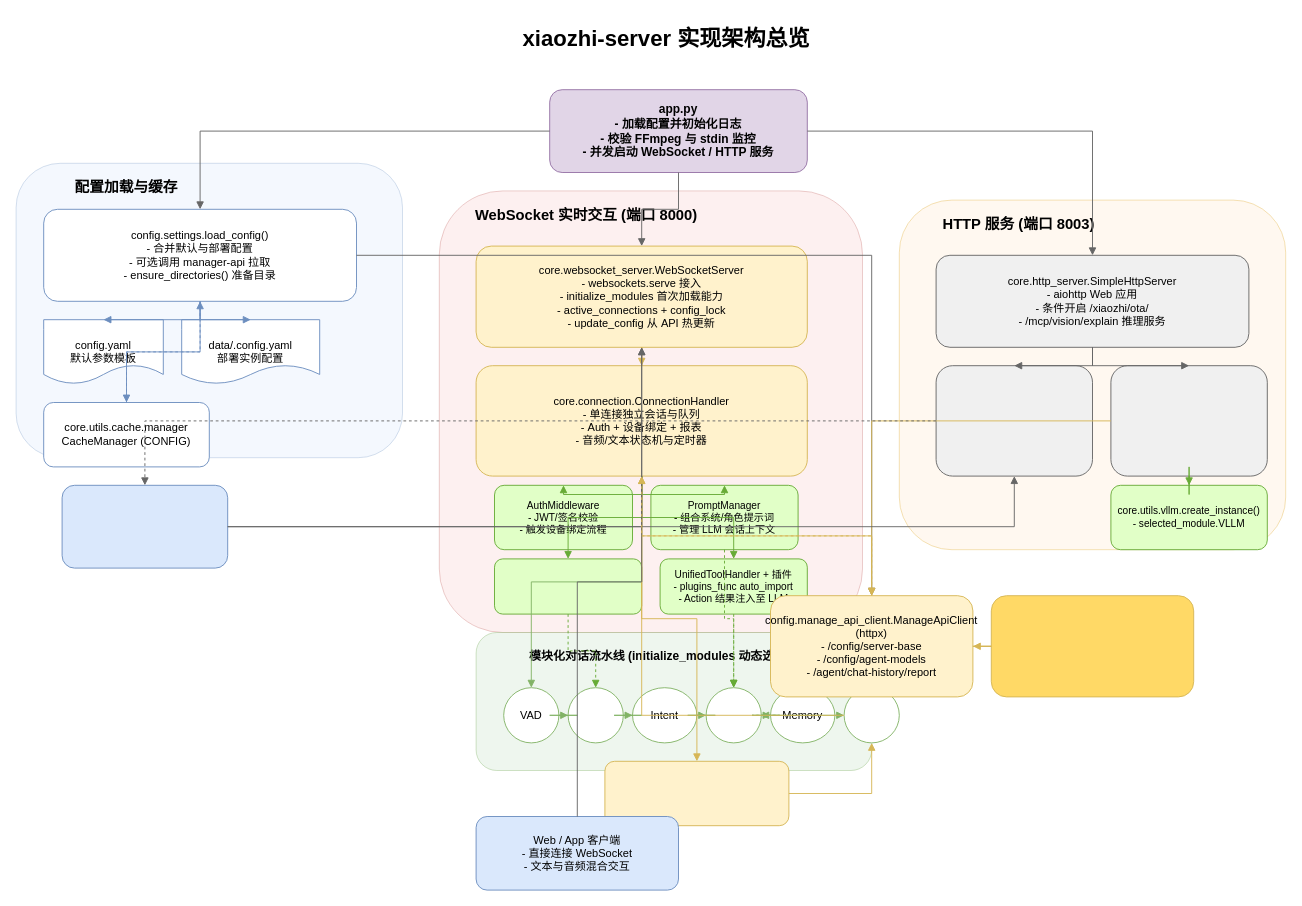
This 1302x906 diagram has some shape labels left out. Here are the shapes that lost their labels. From the top down, the centre of each, then its label:
the point at 1013,420: OTAHandler - 设备固件/资源下发 - MQTT 凭证签发 - 协调 WebSocket 与 MQTT
the point at 1188,420: VisionHandler - Bearer Token 校验 - 图片验签与 Base64 转码 - VLLM 视觉解释调用
the point at 144,526: ESP32 设备 - OTA 配置地址 - WebSocket 音频通道
the point at 568,586: VoiceprintProvider - 可选声纹识别 - 按需初始化 ASR/声纹
the point at 1092,646: Manager API 控台 - 配置与模型管理 - Agent 模板与调试 - 设备状态回溯
the point at 595,715: ASR
the point at 733,715: LLM
the point at 871,715: TTS
the point at 696,793: ThreadPoolExecutor - 处理阻塞 I/O - TTS 合成与上报任务
